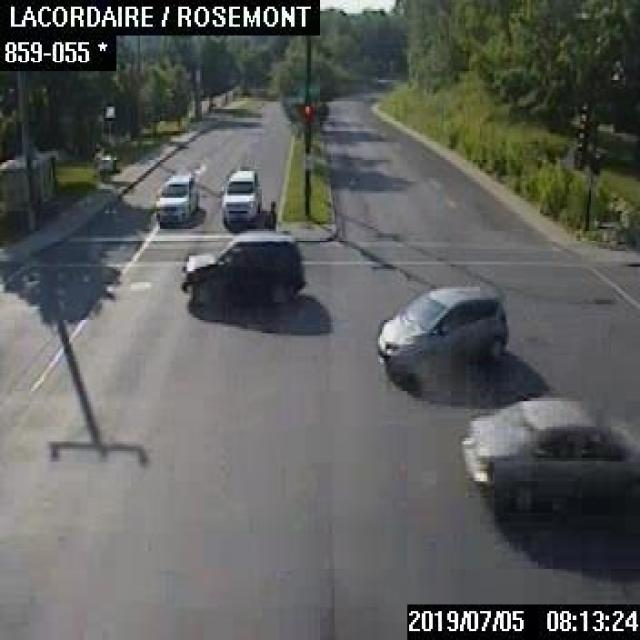pedestrian: (262, 199, 275, 230)
vehicle: (460, 395, 638, 509), (376, 284, 506, 377), (178, 231, 304, 306), (220, 168, 261, 225), (155, 172, 197, 223)
